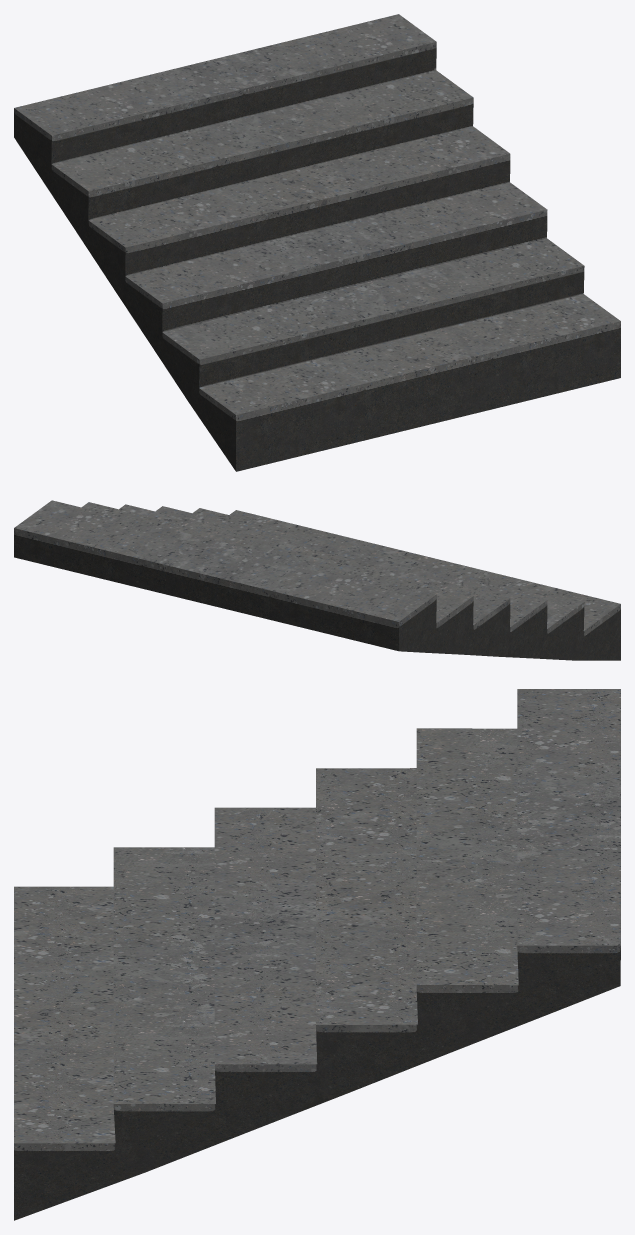
File: SM_Stairs.FBX
3 renders of one model, top to bottom at view 1: azimuth 30°, elevation 25°; view 2: azimuth 150°, elevation 25°; view 3: azimuth 270°, elevation 25°, orthographic. The views are drawn at different scales.
Visible parts, largest first — view 1: SM_Stairs; view 2: SM_Stairs; view 3: SM_Stairs.
Part boxes in pixels (x1=…): SM_Stairs: x1=14, y1=14, x2=620, y2=471; SM_Stairs: x1=14, y1=500, x2=620, y2=660; SM_Stairs: x1=14, y1=689, x2=620, y2=1220.
Size of the model in its own units: 400 by 400 by 200.
